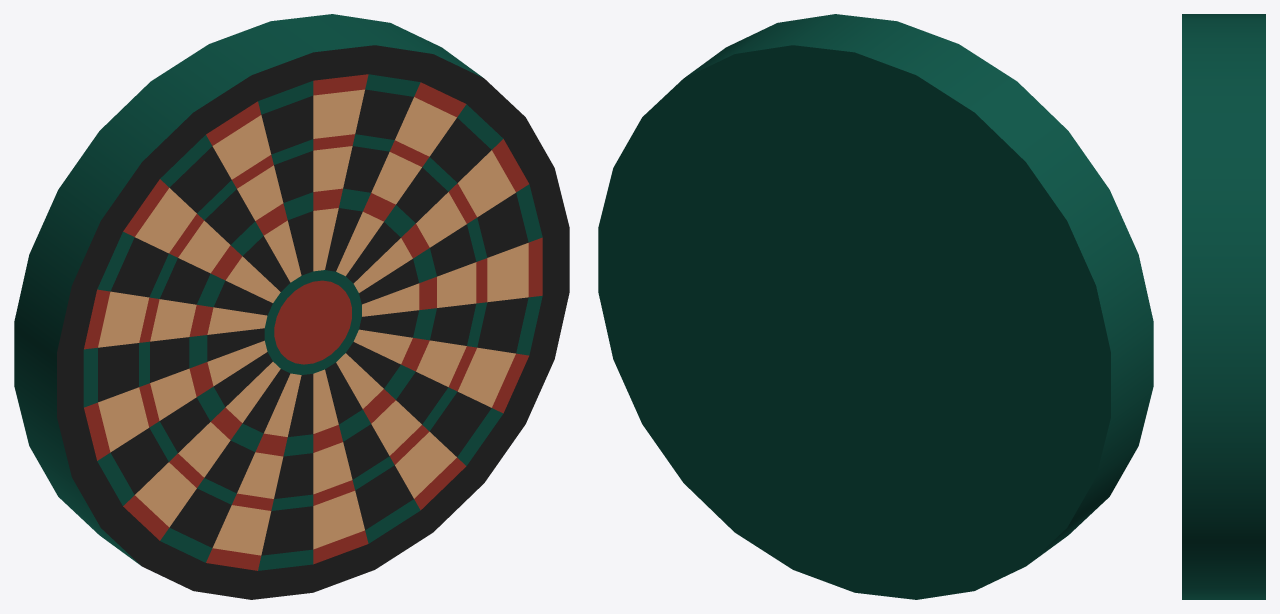
File: Dart.fbx
3 views of the same model, side by side, from view 1: azimuth 30°, elevation 25°; view 2: azimuth 150°, elevation 25°; view 3: azimuth 270°, elevation 25° (orthographic).
Visible parts, largest first — view 1: Dart; view 2: Dart; view 3: Dart.
Boxes of the visible parts, x1=… form: Dart: x1=14, y1=14, x2=569, y2=599; Dart: x1=598, y1=14, x2=1153, y2=599; Dart: x1=1182, y1=14, x2=1265, y2=599.
Size of the model in its own units: 0.7299 by 0.7353 by 0.105.
